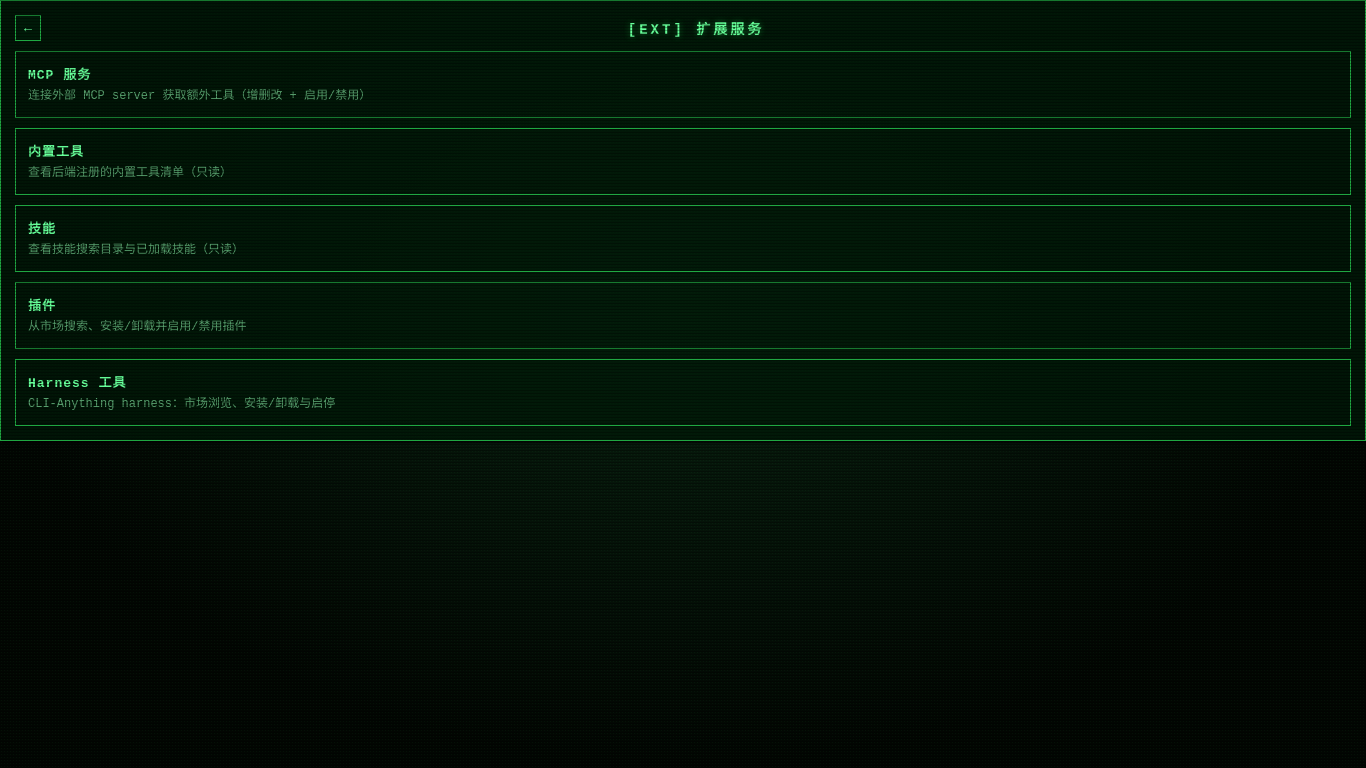
Test case: ExtensionPanel · 两级视图 › 点「MCP 服务」进子面板；← 返回回分类清单
The width and height of the screenshot is (1366, 768).
Click the button with test id "btn-extension-mcp" at (60, 76), box [15,51,1351,118]
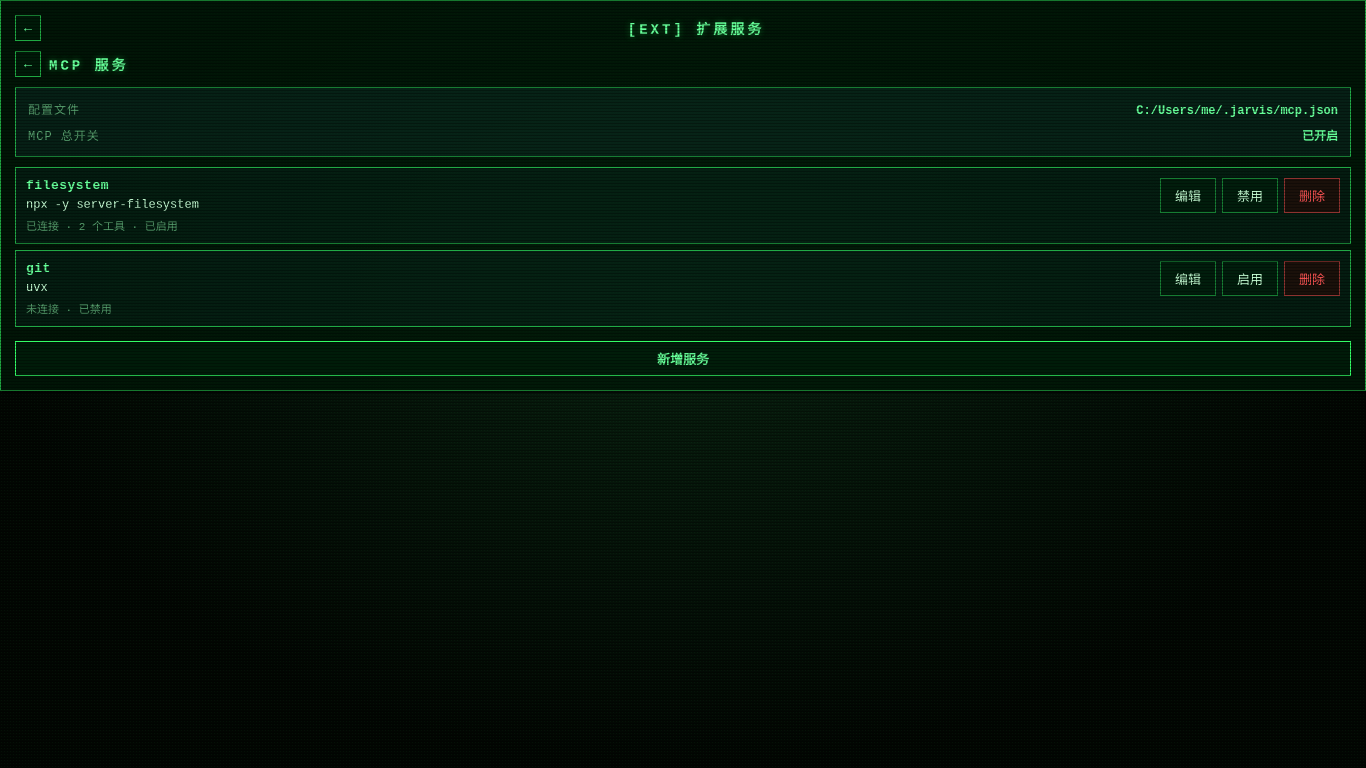
Now the element with test id "extension-mcp" is shown, box [15,51,1351,376]
Now the element with test id "extension-category-list" is gone
Click the button with test id "btn-extension-back" at (28, 64), box [15,51,41,77]
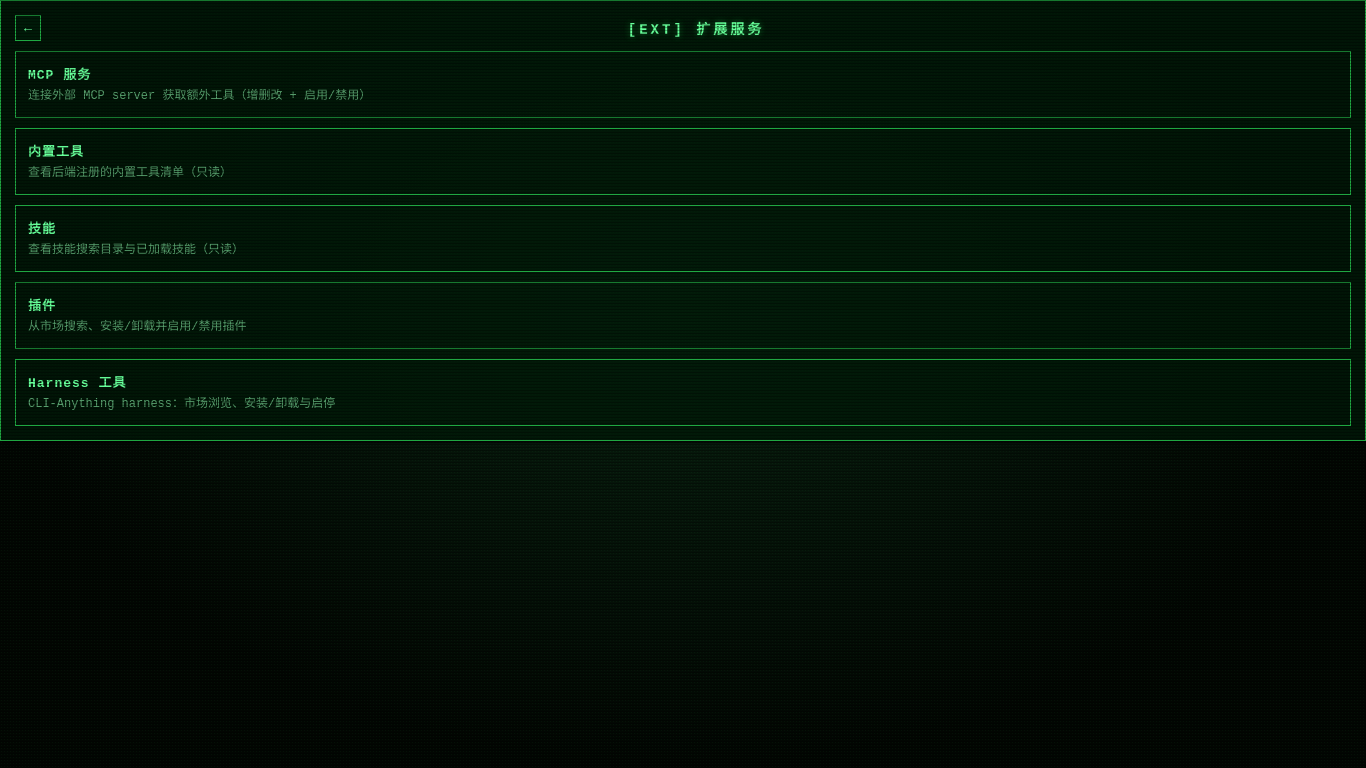
Now the element with test id "extension-category-list" is shown, box [15,51,1351,426]
